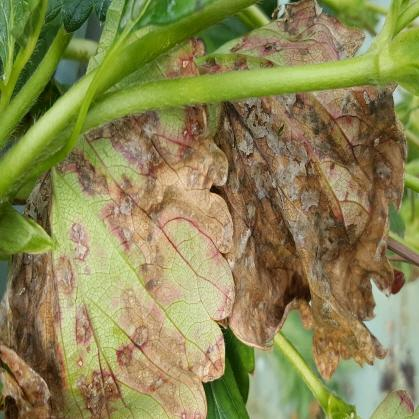Angular Leafspot: (0, 26, 235, 418), (198, 0, 409, 380), (0, 343, 51, 418)
